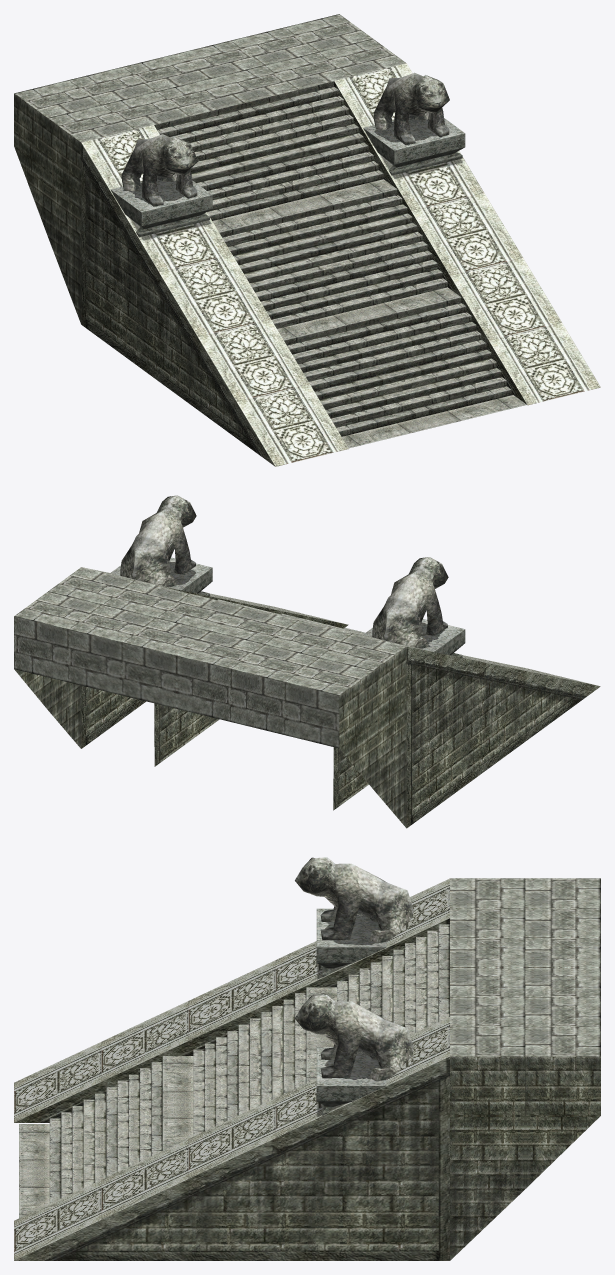
The model's file is b1s-002-inwall-02.fbx.
3 renders of one model, top to bottom at view 1: azimuth 30°, elevation 25°; view 2: azimuth 150°, elevation 25°; view 3: azimuth 270°, elevation 25°, orthographic. The views are drawn at different scales.
Parts seen in each view (by area): view 1: b1s-002-inwall-02; view 2: b1s-002-inwall-02; view 3: b1s-002-inwall-02.
Part boxes in pixels (x1,y1,x2,y2): b1s-002-inwall-02: (14,14,600,466); b1s-002-inwall-02: (14,495,600,828); b1s-002-inwall-02: (14,857,600,1260).
Size of the model in its own units: 11.38 by 7.39 by 15.85.
